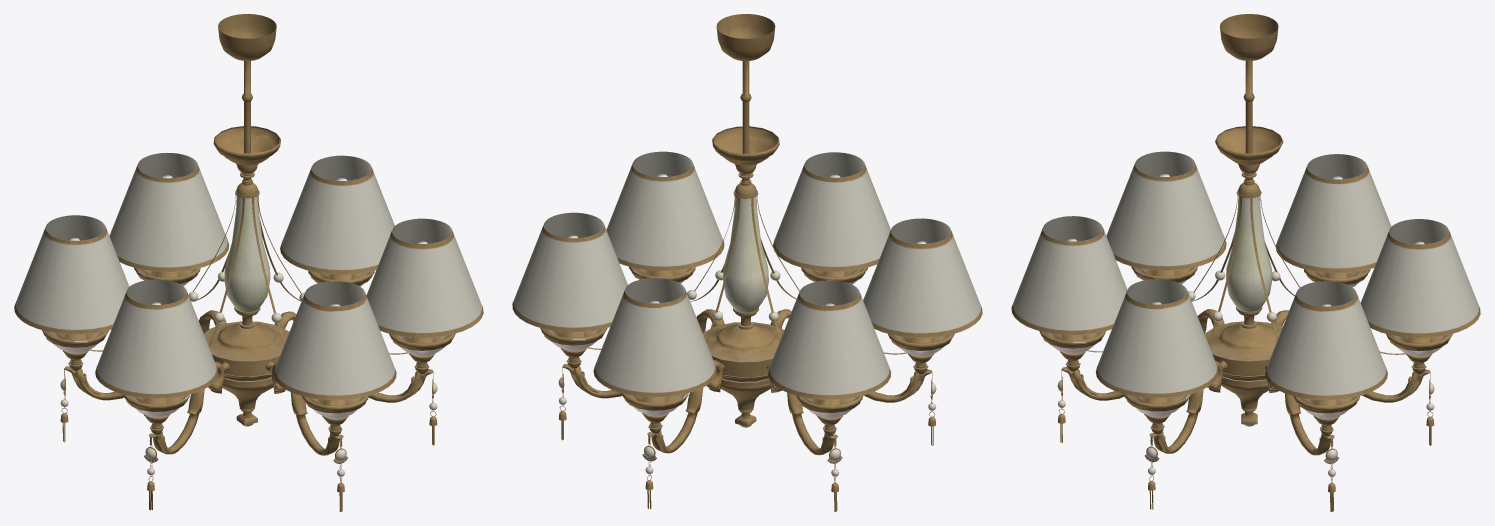
The model's file is chandelier_01.glb.
3 renders of one model, left to right at view 1: azimuth 30°, elevation 25°; view 2: azimuth 150°, elevation 25°; view 3: azimuth 270°, elevation 25°, orthographic.
Parts seen in each view (by area): view 1: Chandelier_01; view 2: Chandelier_01; view 3: Chandelier_01.
Part boxes in pixels (box(x1,y1,x2,y2)): Chandelier_01: box(14, 14, 483, 511); Chandelier_01: box(512, 14, 982, 511); Chandelier_01: box(1011, 14, 1480, 511).
Bounding box in the file's own units: 0.7465 × 0.7983 × 0.8155.
Materials: 2 (1 with a texture image).
